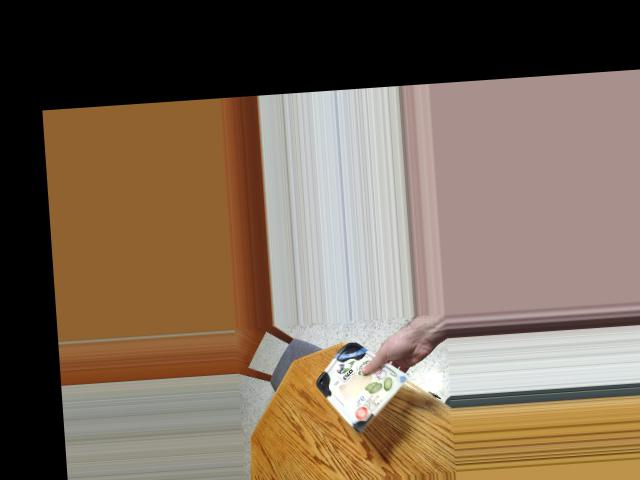cheese: (321, 339, 394, 423)
